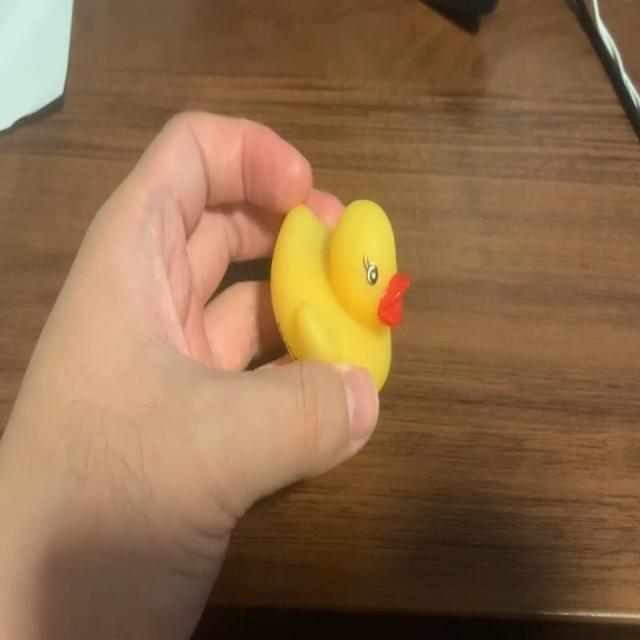rubber-duck: (270, 199, 408, 387)
